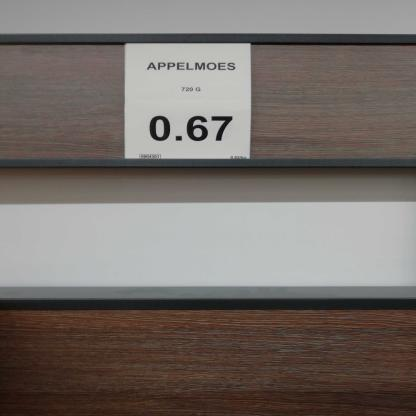prtg: (124, 43, 252, 160)
